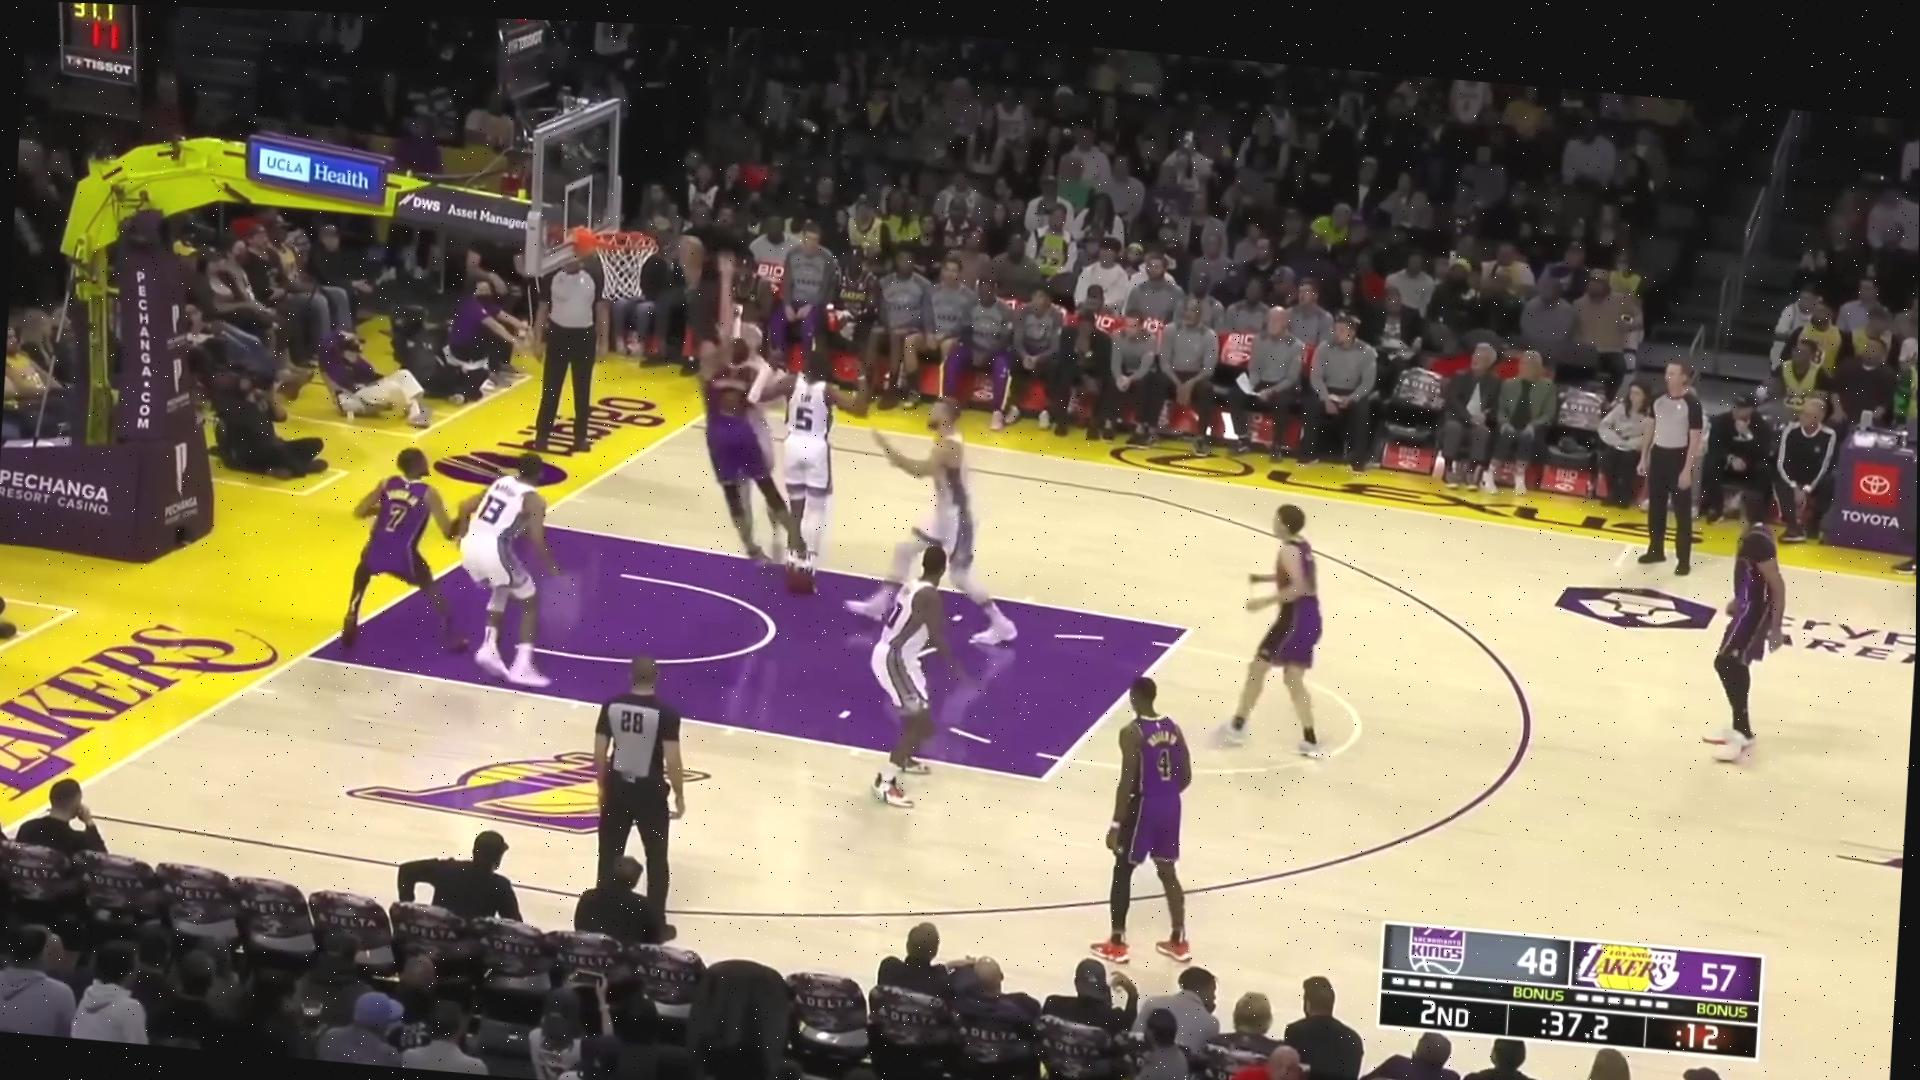foul: (647, 270, 878, 588)
